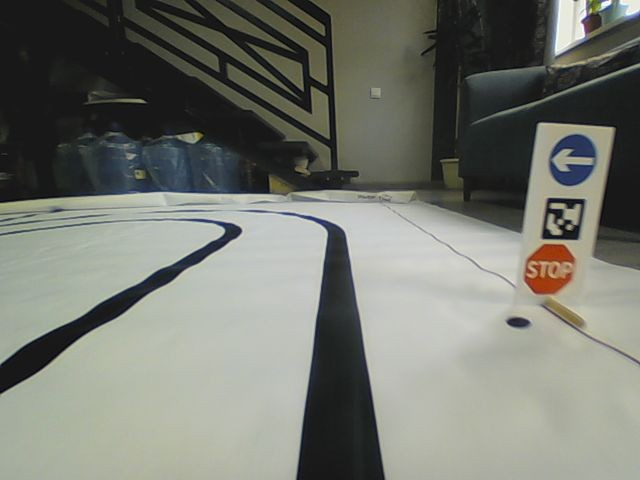Stop: (522, 244, 577, 298)
